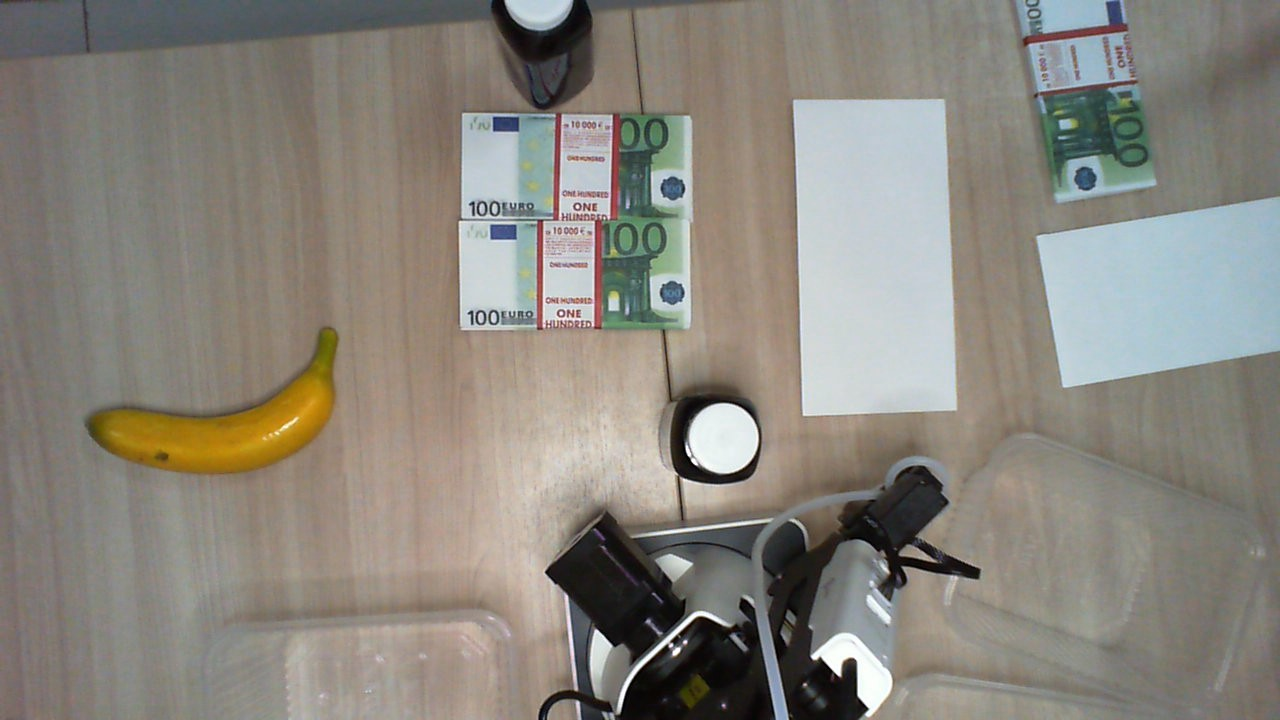banana: (83, 328, 340, 474)
bottle: (489, 1, 595, 110), (659, 396, 762, 485)
convert: (793, 98, 959, 416), (1035, 197, 1280, 389)
money: (1015, 1, 1159, 202), (458, 217, 692, 331), (462, 112, 693, 215)
